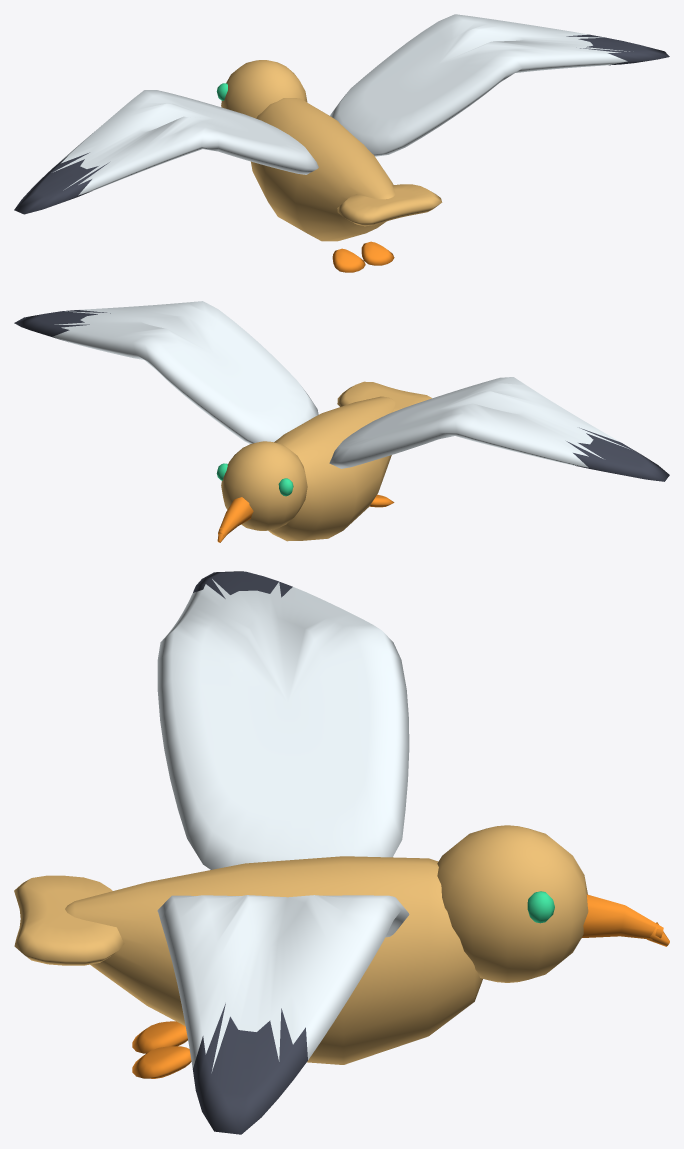
Rendered from SharkBaitGull.obj.
3 views of the same model, one above another, from view 1: azimuth 30°, elevation 25°; view 2: azimuth 150°, elevation 25°; view 3: azimuth 270°, elevation 25° (orthographic). The views are drawn at different scales.
Parts seen in each view (by area): view 1: Wings, Body, WingTips, Beak; view 2: Wings, Body, WingTips, Beak; view 3: Wings, Body, WingTips, Beak.
Part boxes in pixels (left/top/right/bottom): Wings: left=53, top=14, right=629, bottom=195; Body: left=221, top=60, right=442, bottom=241; WingTips: left=14, top=34, right=669, bottom=214; Beak: left=332, top=241, right=394, bottom=272; Wings: left=52, top=301, right=629, bottom=468; Body: left=221, top=381, right=431, bottom=541; WingTips: left=14, top=310, right=669, bottom=481; Beak: left=217, top=494, right=394, bottom=542; Wings: left=157, top=579, right=409, bottom=1072; Body: left=14, top=825, right=588, bottom=1064; WingTips: left=192, top=571, right=307, bottom=1134; Beak: left=132, top=894, right=669, bottom=1078.
Size of the model in its own units: 4.07 by 1 by 2.
